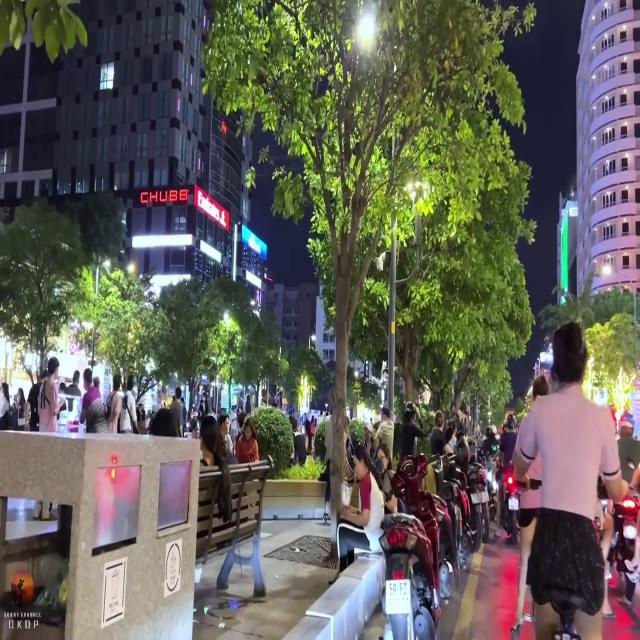bien_trang: (384, 577, 412, 616)
